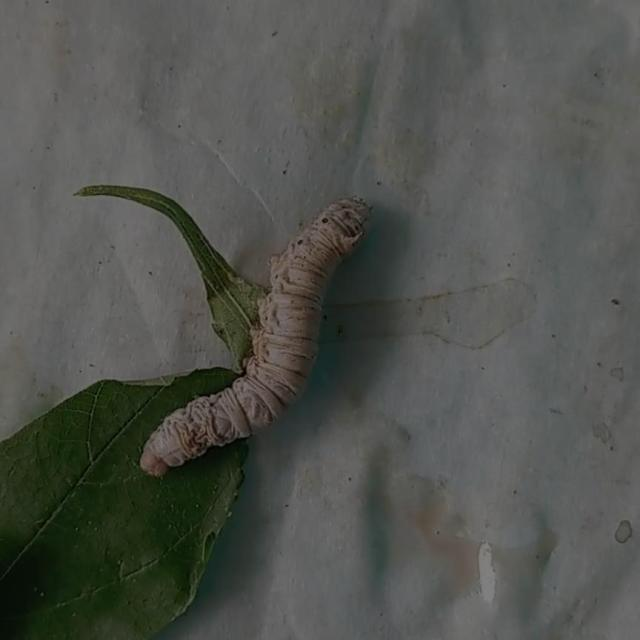Grasserie: (123, 160, 393, 492)
